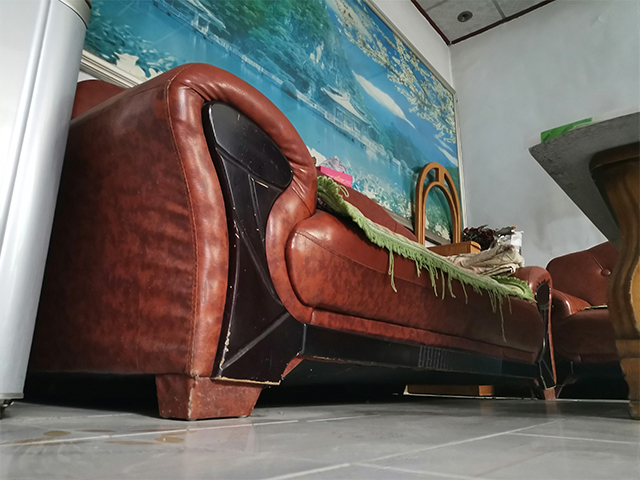sofa: (22, 58, 557, 423)
